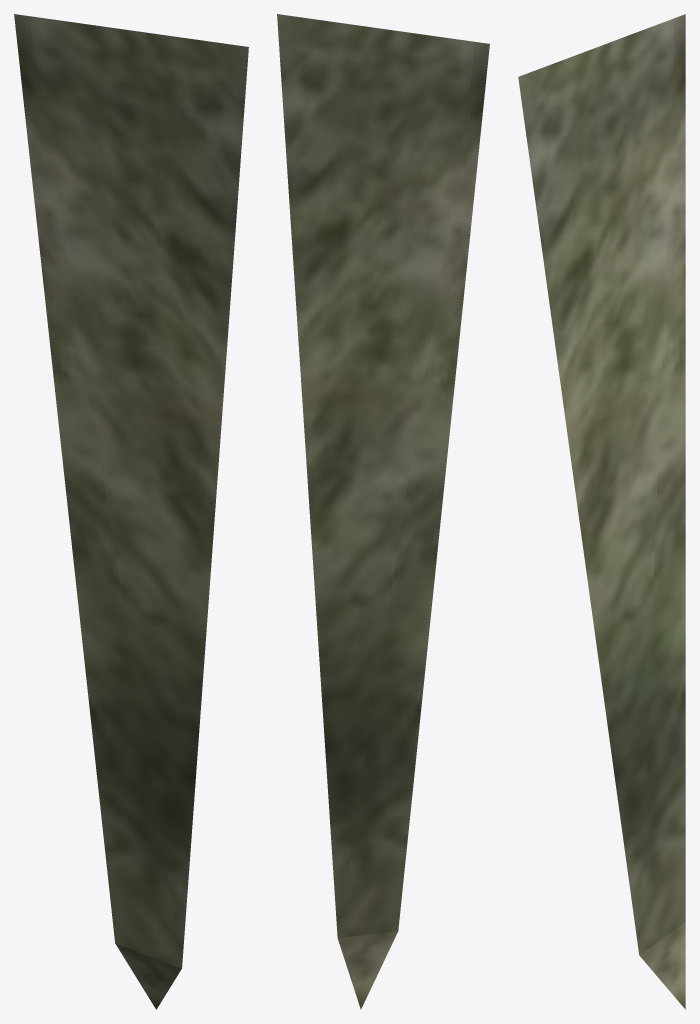
The picture shows the model from 3 angles, left to right: view 1: azimuth 30°, elevation 25°; view 2: azimuth 210°, elevation 25°; view 3: azimuth 270°, elevation 25°; orthographic projection. The views are drawn at different scales.
Size of the model in its own units: 0.4173 by 2.89 by 0.4699.
Materials: 1 (1 with a texture image).
